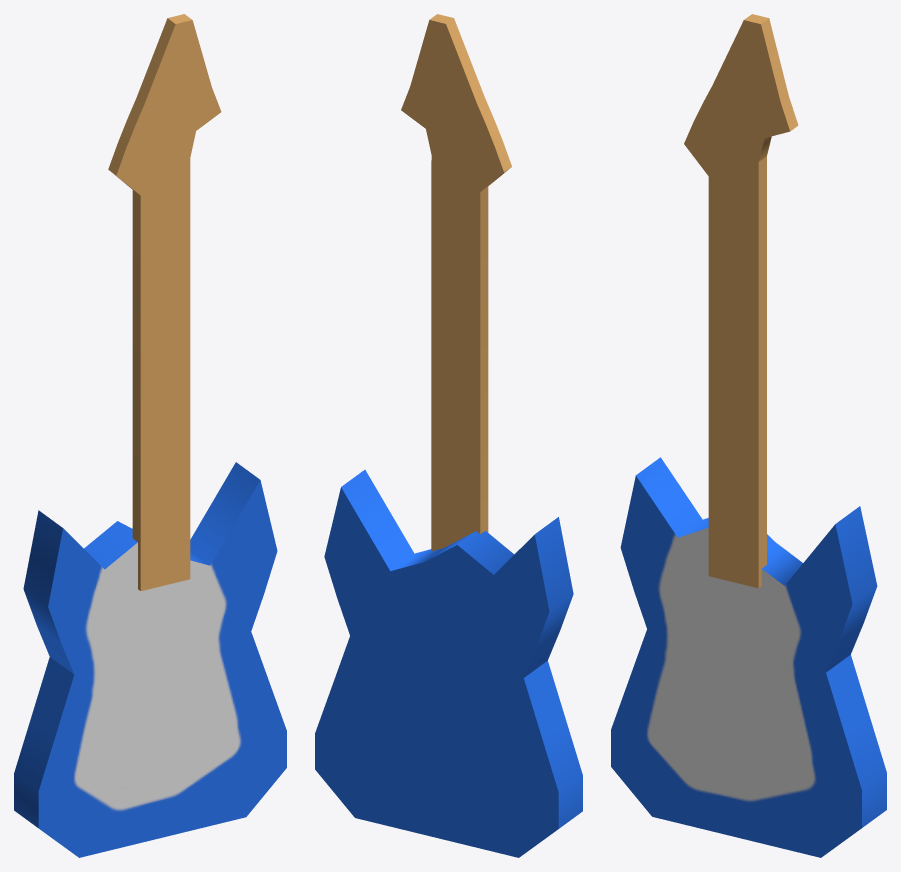
Rendered from Guitar1FBX.fbx.
3 renders of one model, left to right at view 1: azimuth 30°, elevation 25°; view 2: azimuth 150°, elevation 25°; view 3: azimuth 330°, elevation 25°, orthographic. The views are drawn at different scales.
Visible parts, largest first — view 1: Guitar; view 2: Guitar; view 3: Guitar.
Boxes of the visible parts, box(x1,y1,x2,y2) form: Guitar: box(14, 14, 286, 857); Guitar: box(315, 14, 582, 857); Guitar: box(611, 14, 886, 857).
Bounding box in the file's own units: 3.5 × 10.95 × 0.6696.
